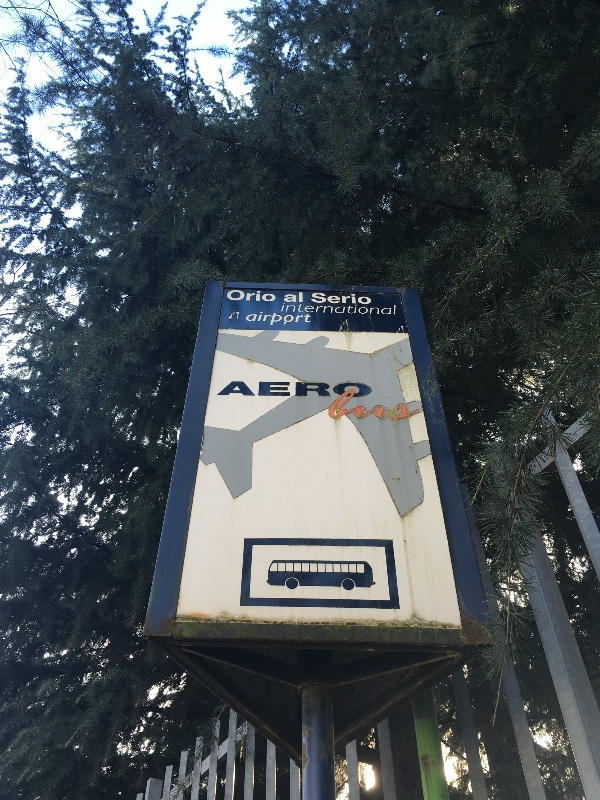text: (353, 386, 368, 422), (369, 386, 384, 422), (385, 386, 400, 422), (401, 386, 416, 422), (339, 386, 352, 422), (241, 380, 256, 399), (257, 380, 272, 399), (273, 380, 288, 399), (289, 380, 304, 399), (305, 380, 320, 399), (321, 380, 336, 399), (337, 380, 352, 399), (353, 380, 368, 399), (257, 310, 272, 326), (273, 310, 288, 326), (289, 310, 304, 326), (241, 289, 256, 304), (257, 289, 272, 304), (321, 291, 336, 306), (337, 291, 352, 306), (353, 291, 368, 306), (289, 302, 304, 317), (305, 302, 320, 317), (321, 302, 336, 317), (337, 302, 352, 317), (353, 302, 368, 317), (369, 302, 384, 317), (228, 289, 240, 304), (289, 292, 304, 304), (385, 302, 397, 317), (232, 380, 240, 399), (248, 310, 256, 326), (305, 310, 312, 326), (417, 386, 420, 422), (313, 291, 320, 306), (283, 302, 288, 317), (369, 380, 372, 399), (273, 289, 276, 304), (369, 291, 372, 306), (285, 292, 288, 304)
